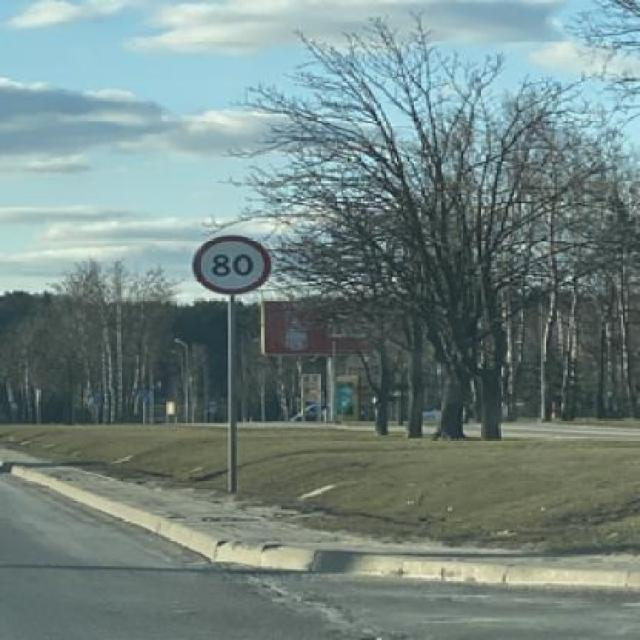forb_speed_over_80: (194, 235, 269, 293)
